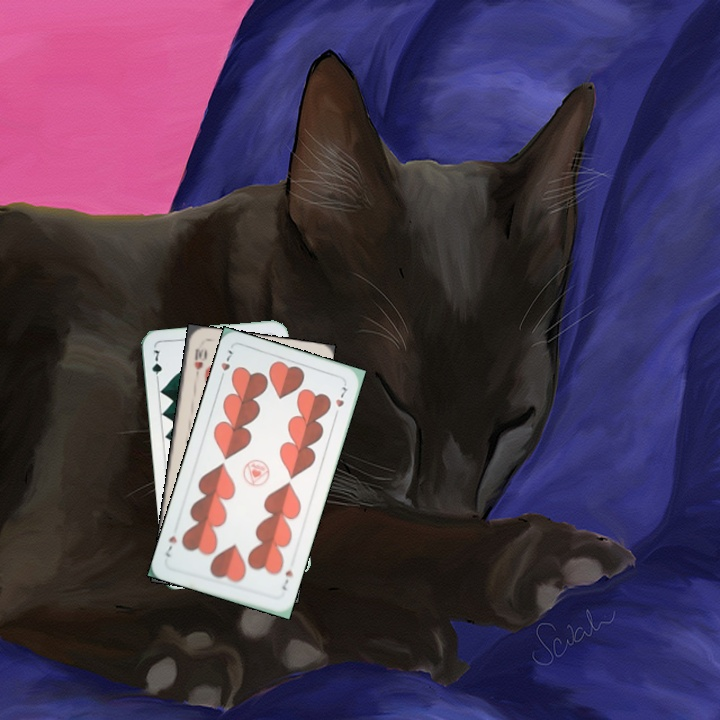G7: (148, 346, 165, 385)
H10: (190, 345, 208, 372)
H7: (216, 346, 235, 384), (278, 566, 296, 593)
